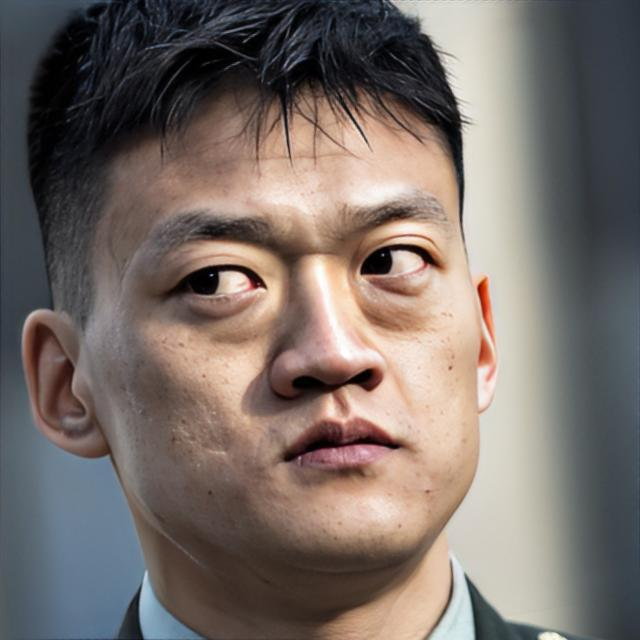fear: (90, 83, 480, 576)
